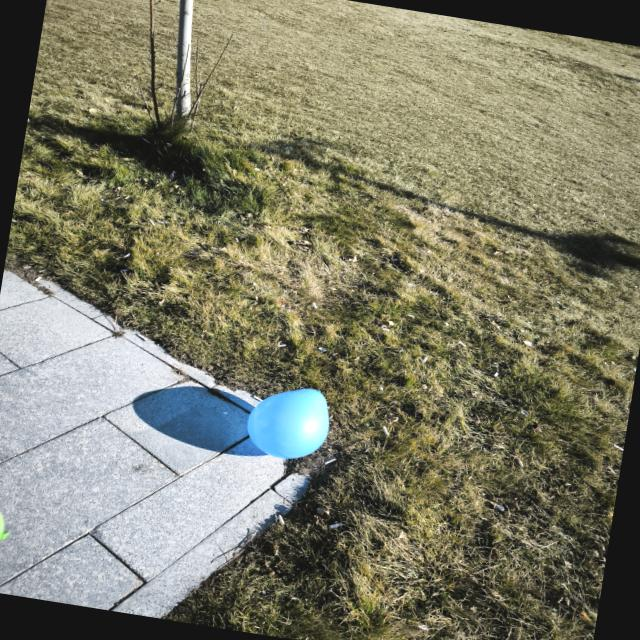balloon: (247, 389, 329, 459)
